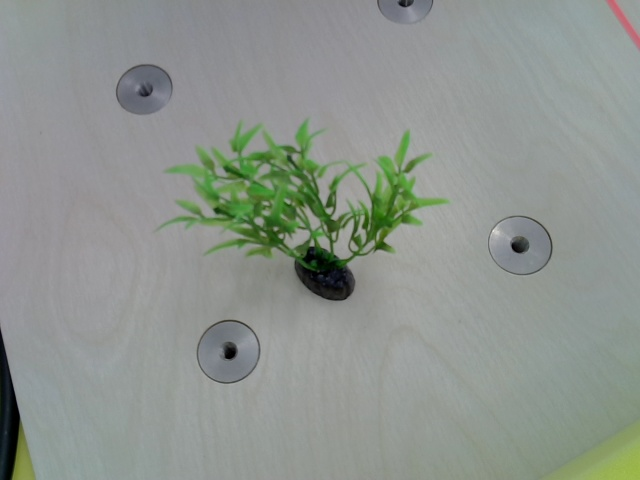튤립새싹: (170, 122, 441, 300)
